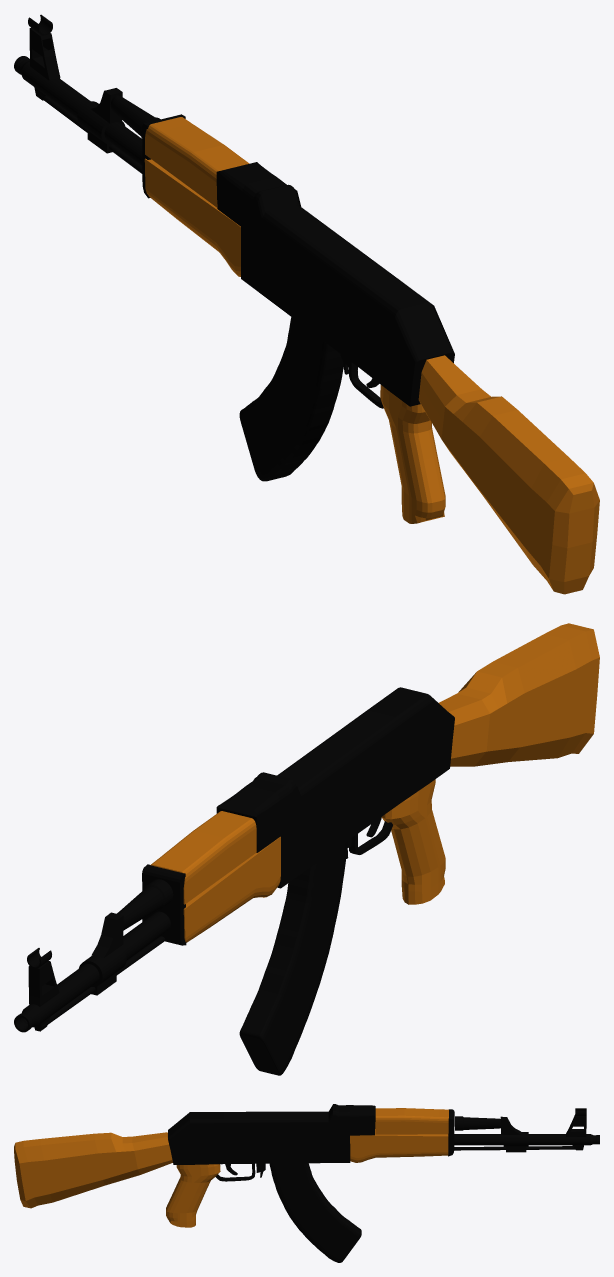
The picture shows the model from 3 angles, top to bottom: view 1: azimuth 30°, elevation 25°; view 2: azimuth 150°, elevation 25°; view 3: azimuth 270°, elevation 25°; orthographic projection. The views are drawn at different scales.
Parts seen in each view (by area): view 1: Receiver, Stock, Magazine, Grip, Upper Handguard, Lower Handguard, Barrel, Gas Tube, Front Sight; view 2: Receiver, Stock, Magazine, Upper Handguard, Grip, Lower Handguard, Gas Tube, Barrel, IDK, Front Sight, Cleaning Rod; view 3: Receiver, Stock, Magazine, Lower Handguard, Grip, Upper Handguard, Barrel, Gas Tube, Front Sight, Cleaning Rod, IDK.
Boxes of the visible parts, box(x1,y1,x2,y2) form: Receiver: box(216, 162, 454, 406); Stock: box(418, 355, 599, 594); Magazine: box(239, 317, 343, 481); Grip: box(380, 385, 445, 523); Upper Handguard: box(145, 117, 249, 207); Lower Handguard: box(144, 158, 240, 276); Barrel: box(14, 56, 142, 165); Gas Tube: box(77, 88, 160, 153); Front Sight: box(28, 14, 60, 100); Receiver: box(216, 687, 454, 888); Stock: box(439, 623, 599, 766); Magazine: box(239, 841, 347, 1075); Upper Handguard: box(150, 811, 256, 904); Grip: box(381, 779, 445, 904); Lower Handguard: box(183, 836, 280, 942); Gas Tube: box(79, 879, 173, 995); Barrel: box(14, 911, 170, 1032); IDK: box(142, 864, 186, 945); Front Sight: box(27, 948, 59, 1031); Cleaning Rod: box(41, 936, 165, 1028); Receiver: box(168, 1104, 375, 1164); Stock: box(14, 1132, 172, 1208); Magazine: box(269, 1163, 361, 1262); Lower Handguard: box(350, 1129, 448, 1162); Grip: box(166, 1164, 220, 1227); Upper Handguard: box(375, 1108, 448, 1134); Barrel: box(454, 1134, 599, 1145); Gas Tube: box(455, 1116, 528, 1152); Front Sight: box(566, 1108, 586, 1150); Cleaning Rod: box(454, 1146, 574, 1150); IDK: box(448, 1109, 454, 1156).
Size of the model in its own units: 0.3683 by 2.29 by 7.94.
